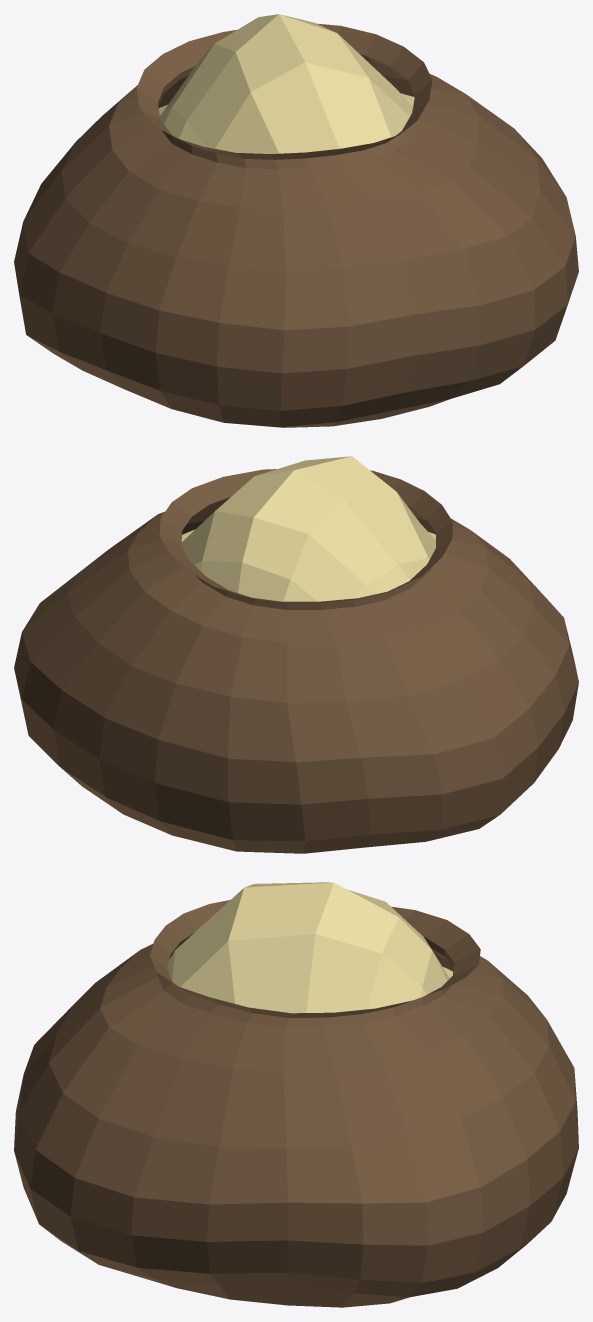
File: wheat_dust_bag.fbx
3 renders of one model, top to bottom at view 1: azimuth 30°, elevation 25°; view 2: azimuth 150°, elevation 25°; view 3: azimuth 270°, elevation 25°, orthographic. The views are drawn at different scales.
Visible parts, largest first — view 1: Sphere, Plane; view 2: Sphere, Plane; view 3: Sphere, Plane.
Part boxes in pixels (box(x1,y1,x2,y2)): Sphere: box(14, 23, 578, 427); Plane: box(158, 14, 414, 153); Sphere: box(14, 469, 578, 853); Plane: box(181, 456, 435, 601); Sphere: box(14, 900, 578, 1307); Plane: box(166, 882, 452, 1013).
Bounding box in the file's own units: 229 × 140 × 218.
